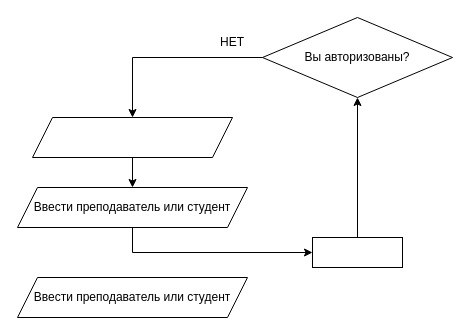
The diagram is 470 pixels wide and 335 high, and some of its shapes have lost their labels. Each missing label, with the centre of its shape:
Ввести фамилию и имя: the point at 132,137
ОТМЕНА: the point at 357,252
